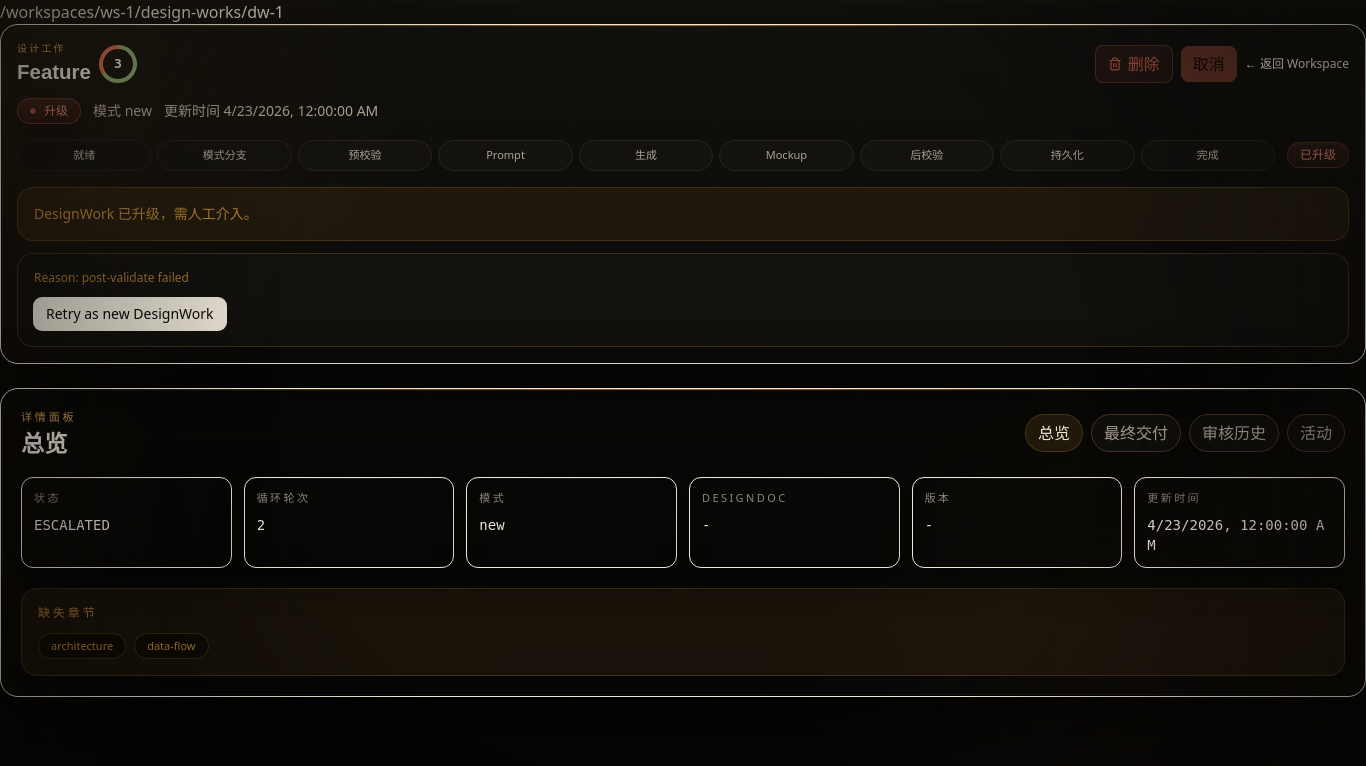
Scenario: DesignWorkPage › opens editable retry form before creating the new row
Click the button "Retry as new DesignWork" at (130,314), box [34, 298, 226, 330]
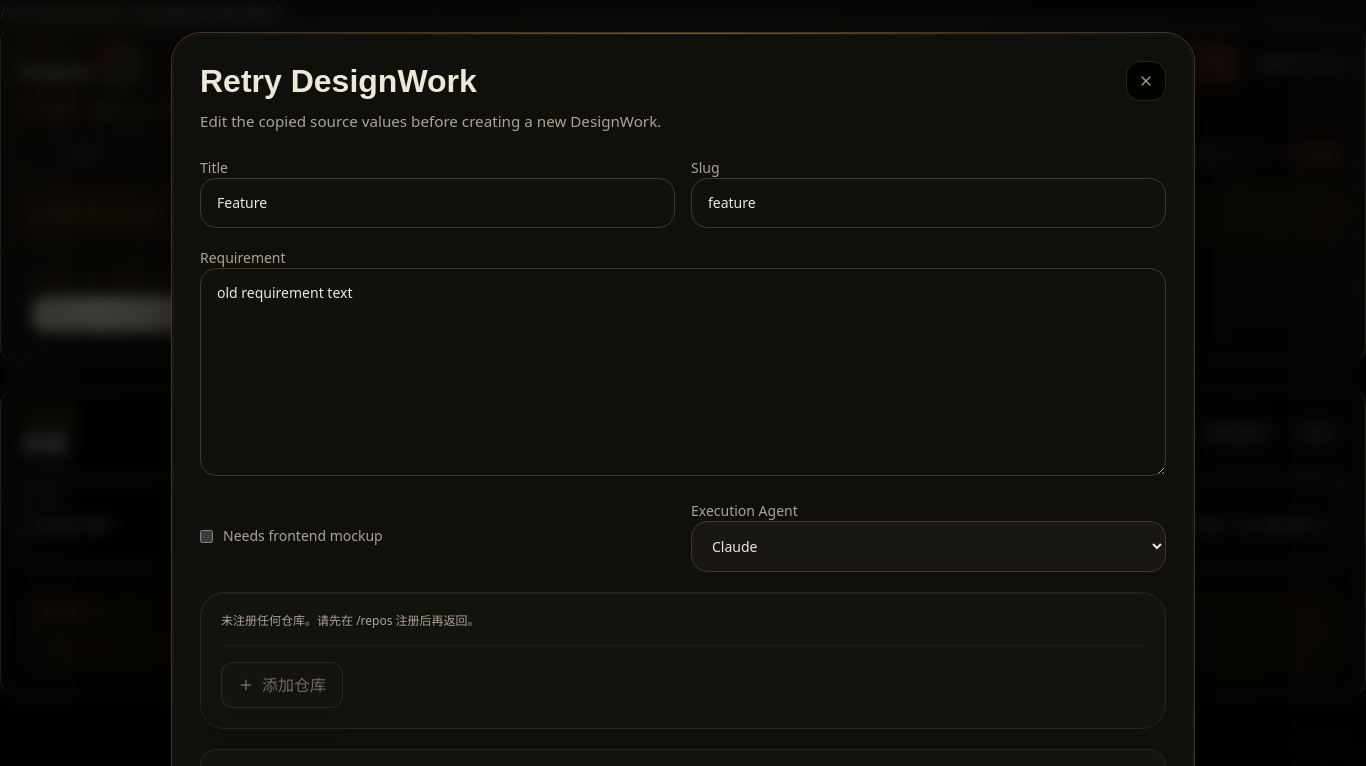
Replace the text in the field labelled "Title" with "Feature retry" at (438,203), box [200, 178, 675, 228]
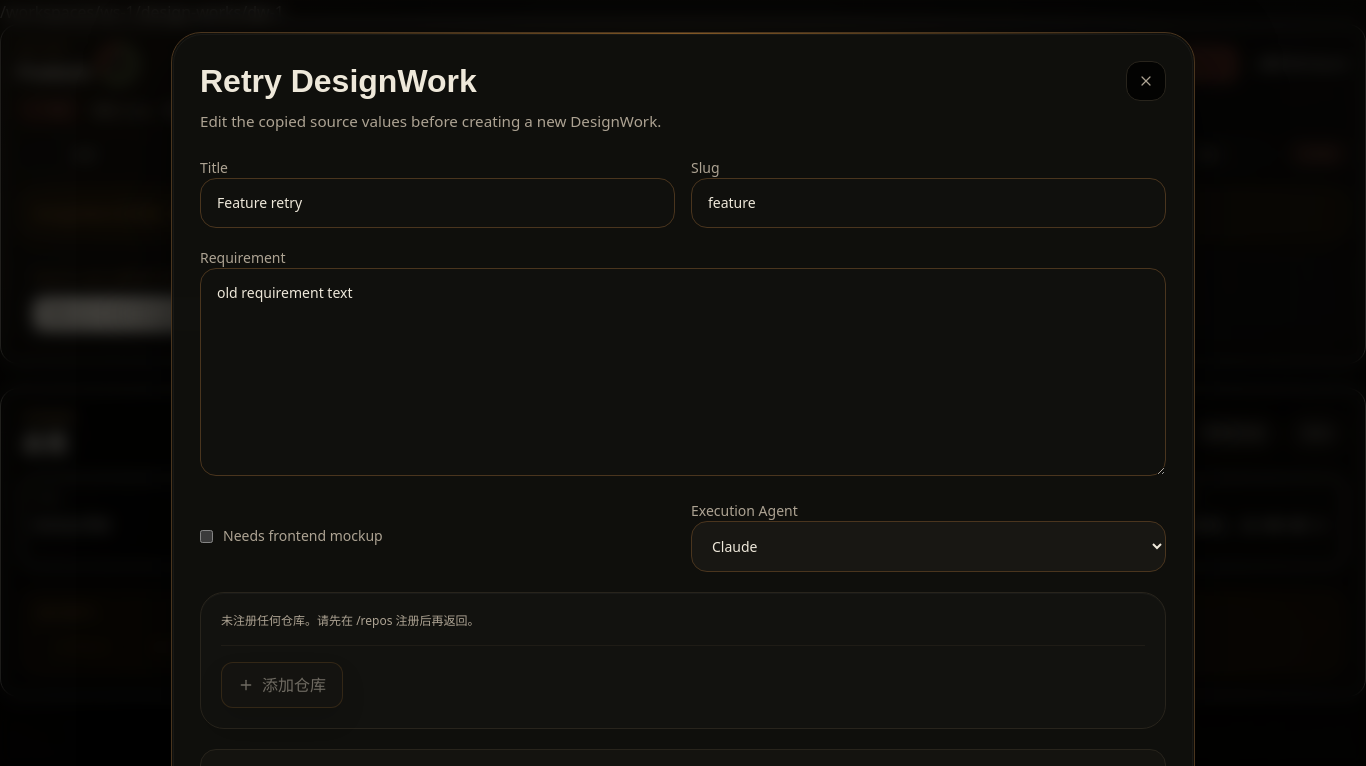
Replace the text in the text box labelled "Requirement" with "new requirement text" at (683,372), box [200, 268, 1166, 476]
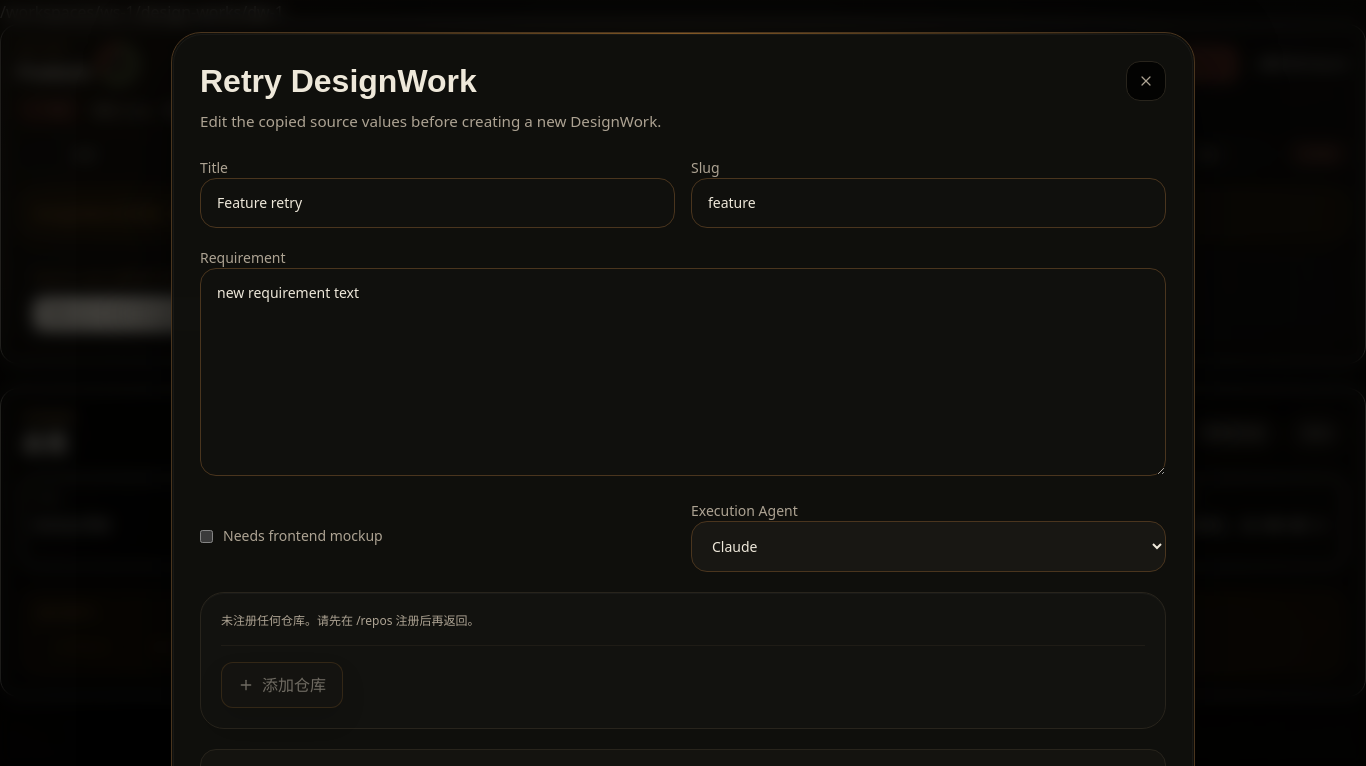
Select "Codex" in the dropdown labelled "Execution Agent" at (928,546), box [691, 521, 1166, 572]
(page scrolled)
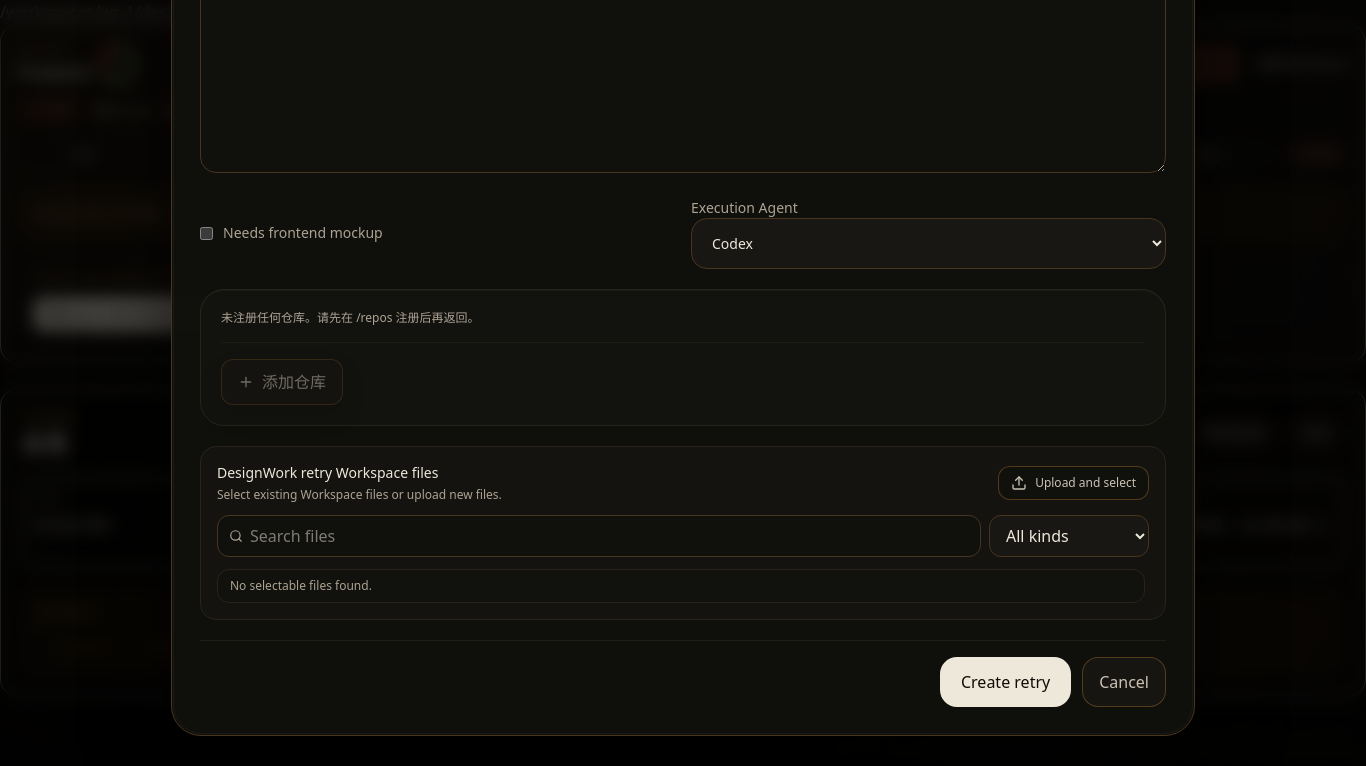
Click the button "Create retry" at (1006,682), box [941, 658, 1070, 706]
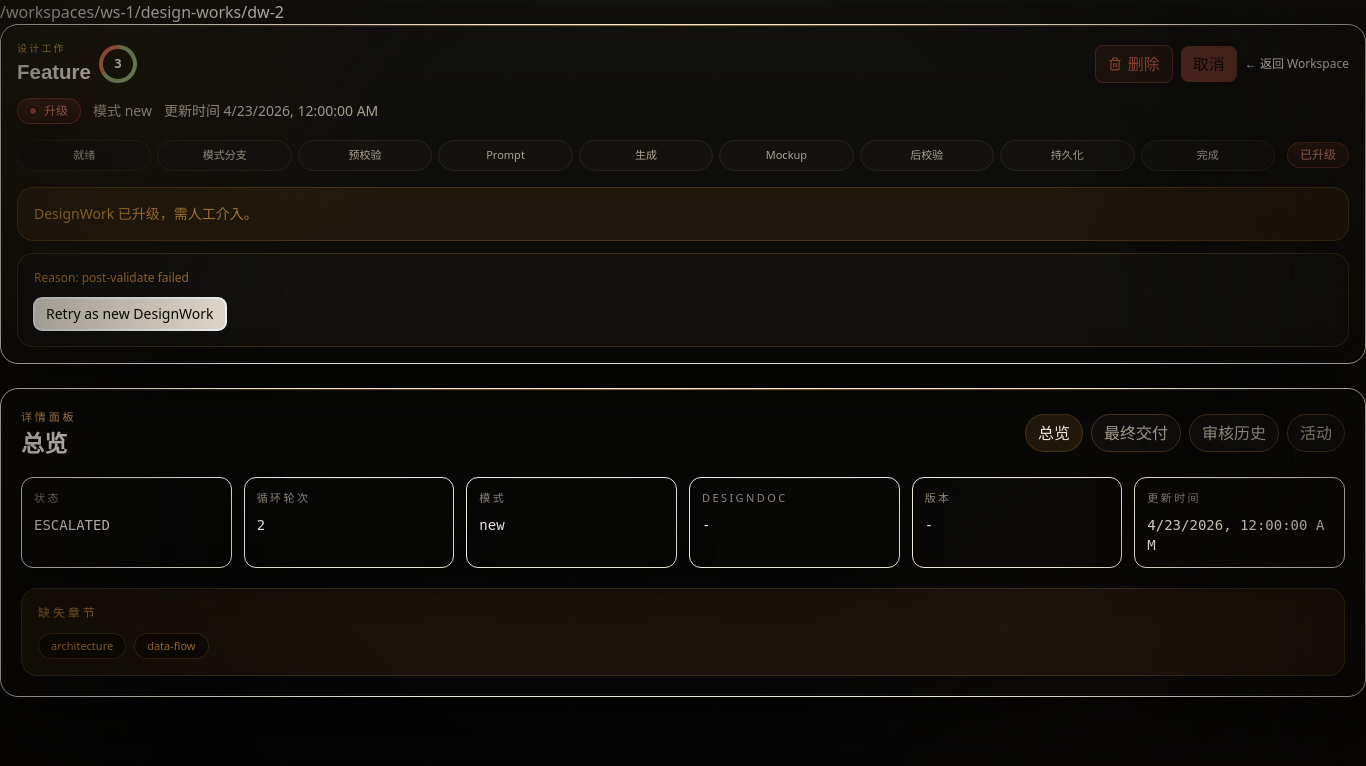
expect the text with test id "location-probe" reads "/workspaces/ws-1/design-works/dw-2": met, box [0, 1, 284, 23]
